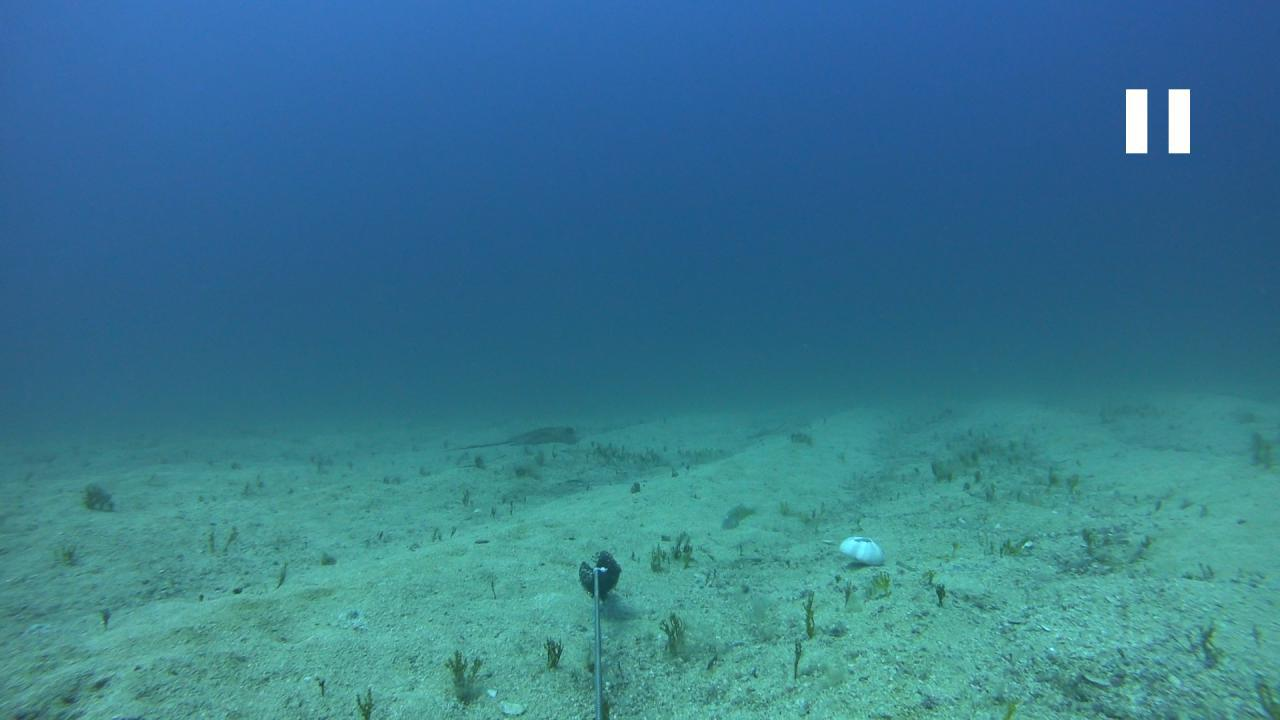dasyatis: (451, 426, 586, 450)
